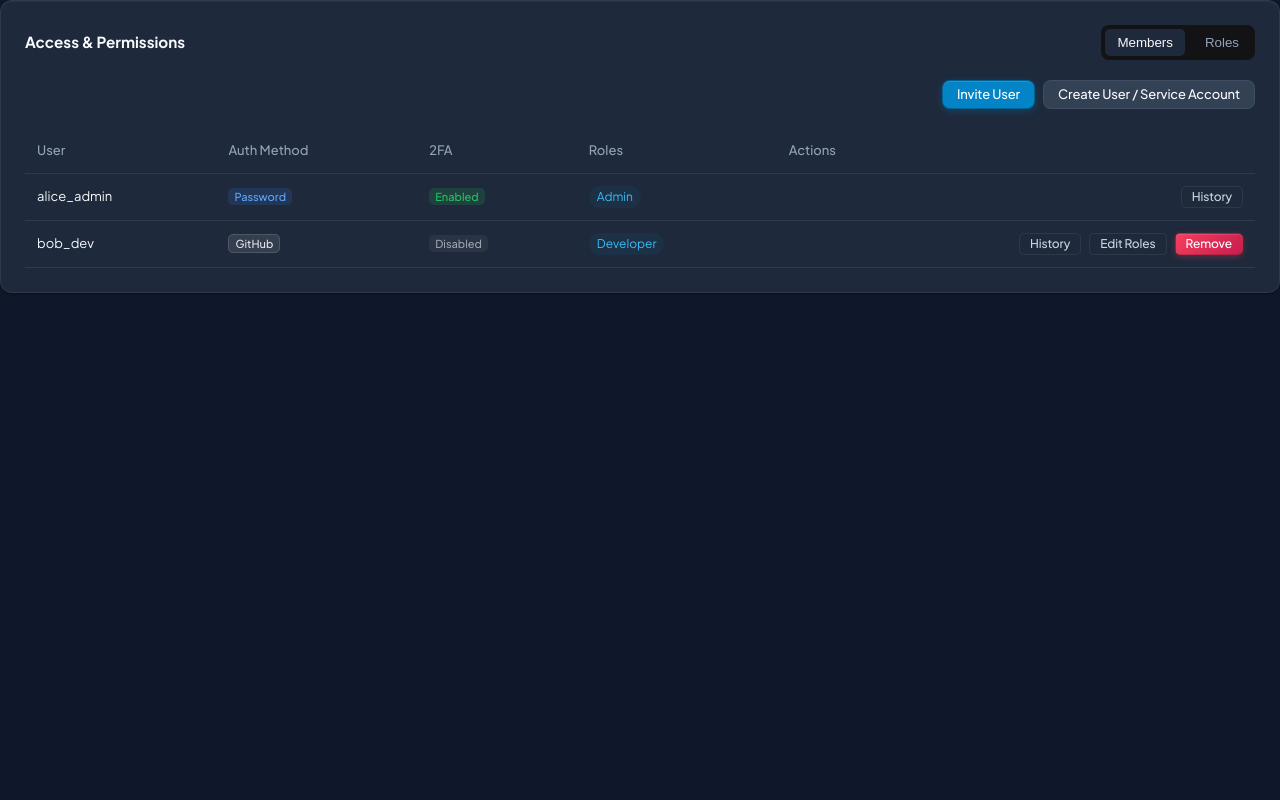
Test: MembersRolesTab Component › opens and interacts with login history modal and exports CSV
Expected: the text "alice_admin" is shown, [25,173,216,220]
Click the button "History" in the row of "alice_admin" at (1212, 196), box [1181,186,1243,208]
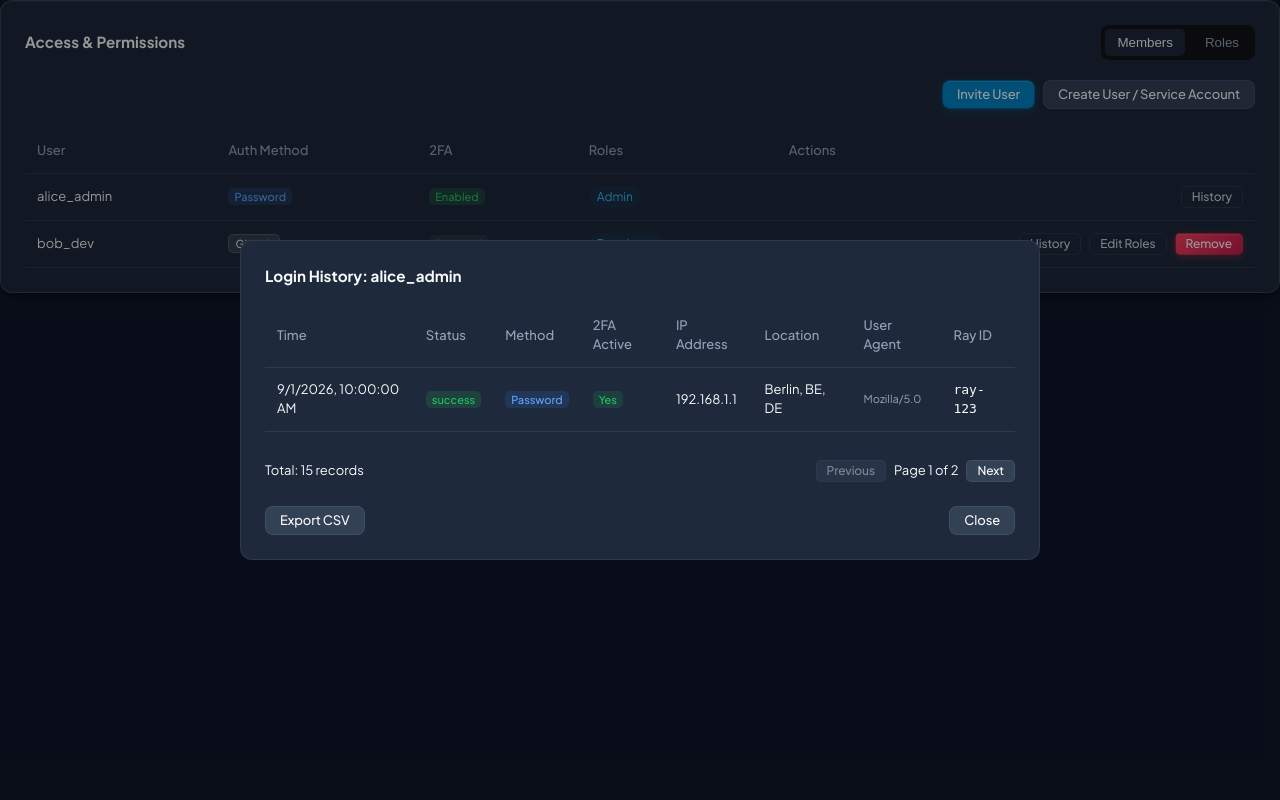
Result: the heading "Login History: alice_admin" is shown at [265,266,462,285]
Result: the text "192.168.1.1" is shown at [664,367,753,431]
Result: the text "Berlin, BE, DE" is shown at [753,367,852,431]
# Test pagination next
Click the button "Next" at (991, 471), box [966,460,1015,482]
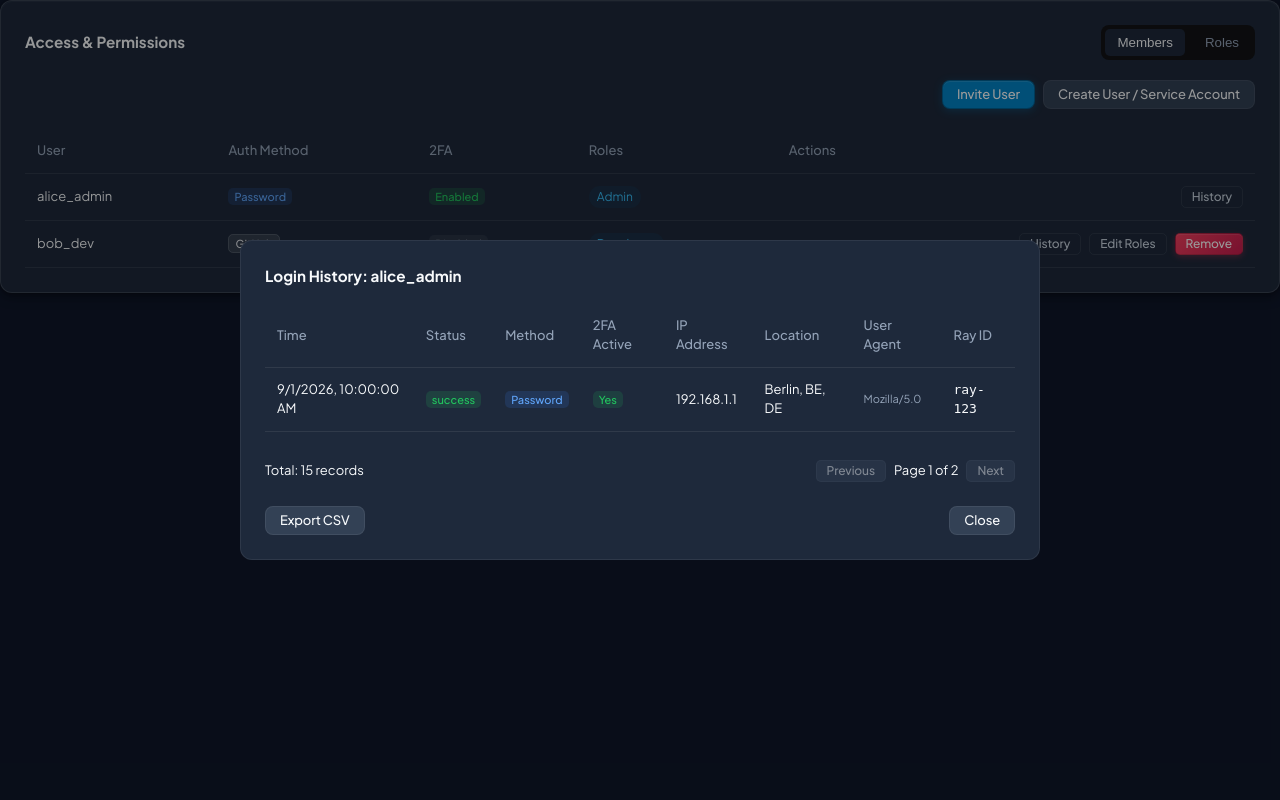
# Test export CSV
Click the button "Export CSV" at (315, 520), box [265,506,365,535]
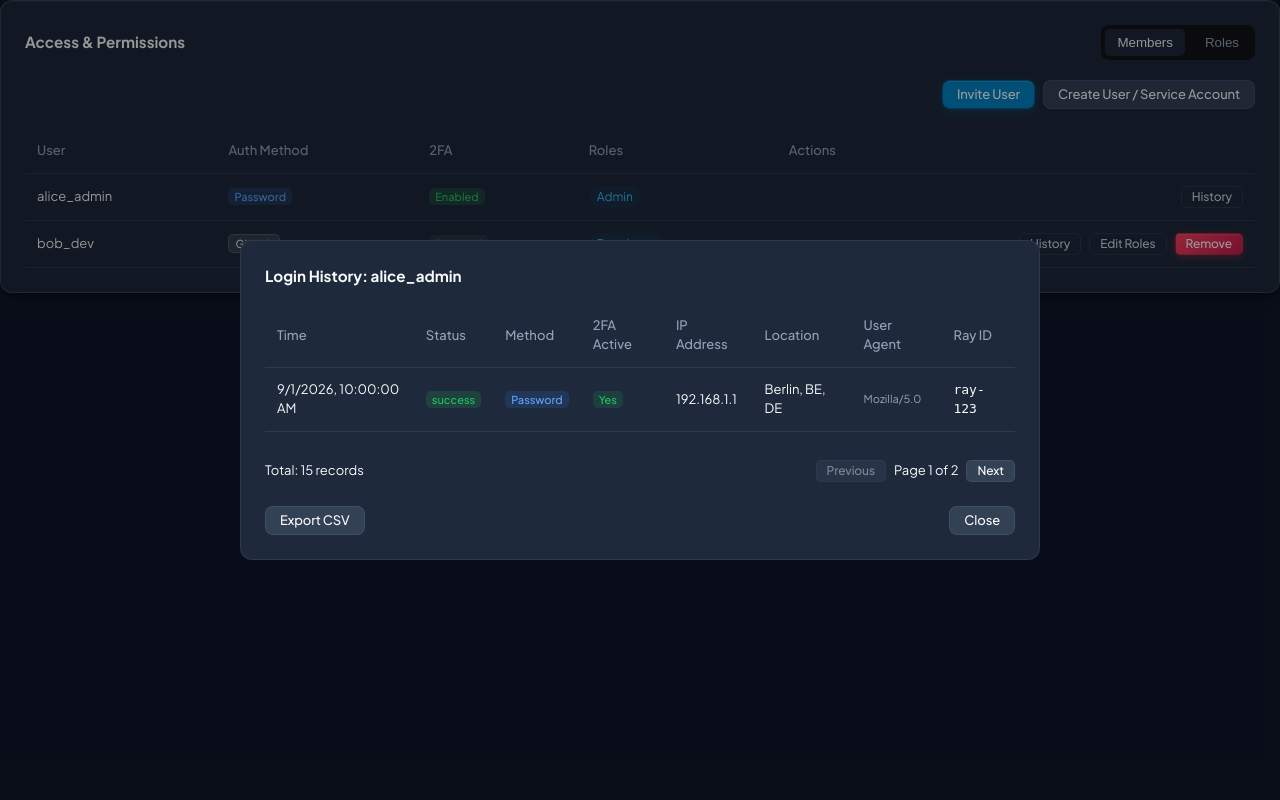
# Close history modal
Click the button "Close" at (982, 520), box [949,506,1015,535]
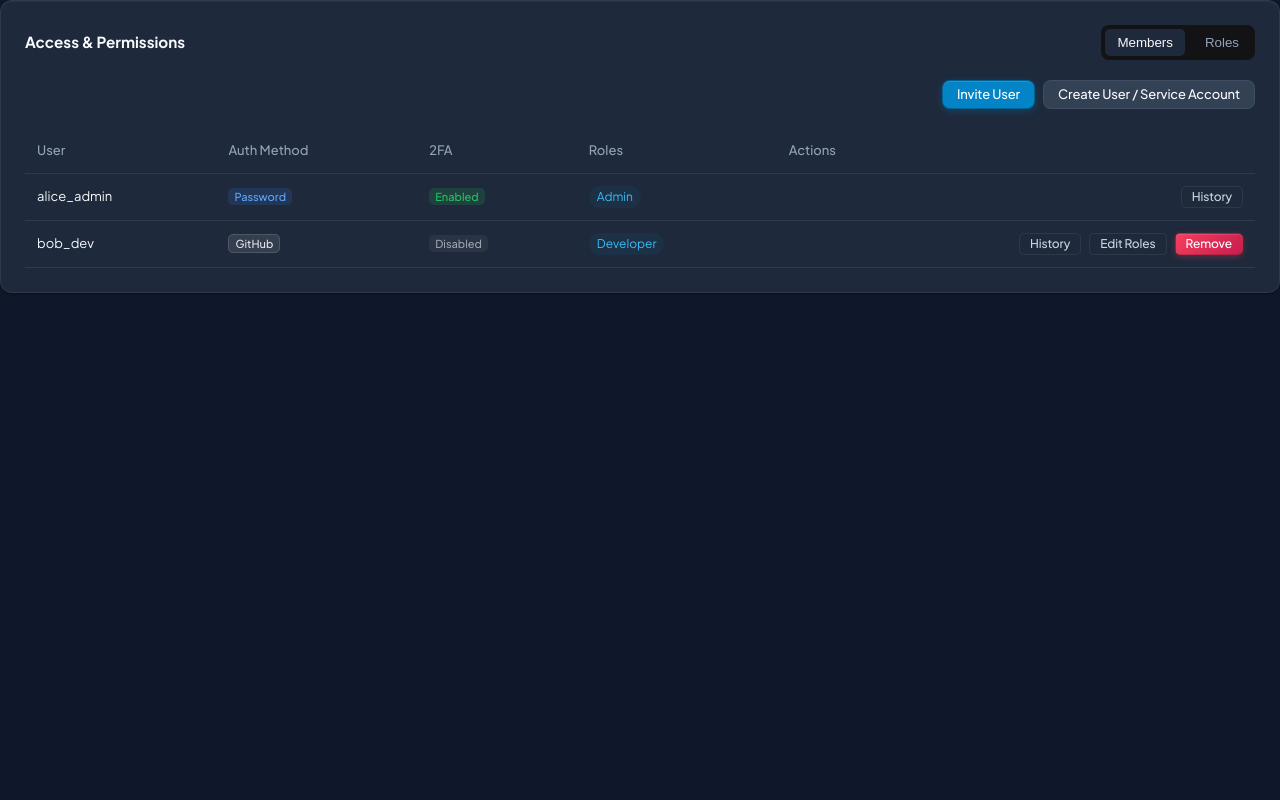
Result: the heading "Login History: alice_admin" is gone
